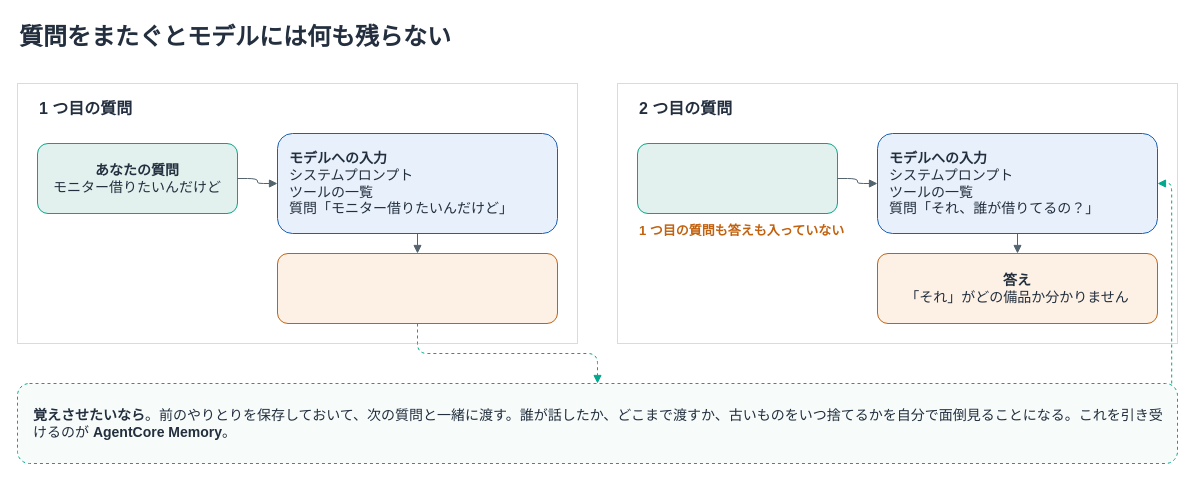
The diagram is 1198 pixels wide and 481 high, and some of its shapes have lost their labels. The shapes that lost their labels are listed below. From the top down, each one's centre as x and y in pixels, then its label:
[737,178]: あなたの質問 それ、誰が借りてるの？
[417,288]: 答え 空いているのは MON-001 です
